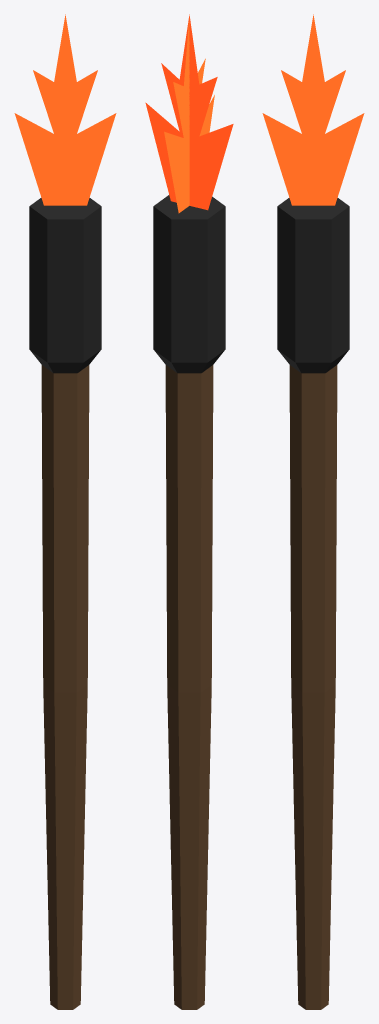
Rendered from fantasy-torche.glb.
The picture shows the model from 3 angles, left to right: view 1: azimuth 90°, elevation 25°; view 2: azimuth 150°, elevation 25°; view 3: azimuth 270°, elevation 25°; orthographic projection.
Visible parts, largest first — view 1: torche; view 2: torche; view 3: torche.
Part boxes in pixels (x1,y1,x2,y2): torche: [14, 14, 116, 1009]; torche: [145, 14, 233, 1009]; torche: [262, 14, 364, 1009].
Size of the model in its own units: 0.2037 by 2.18 by 0.2037.
